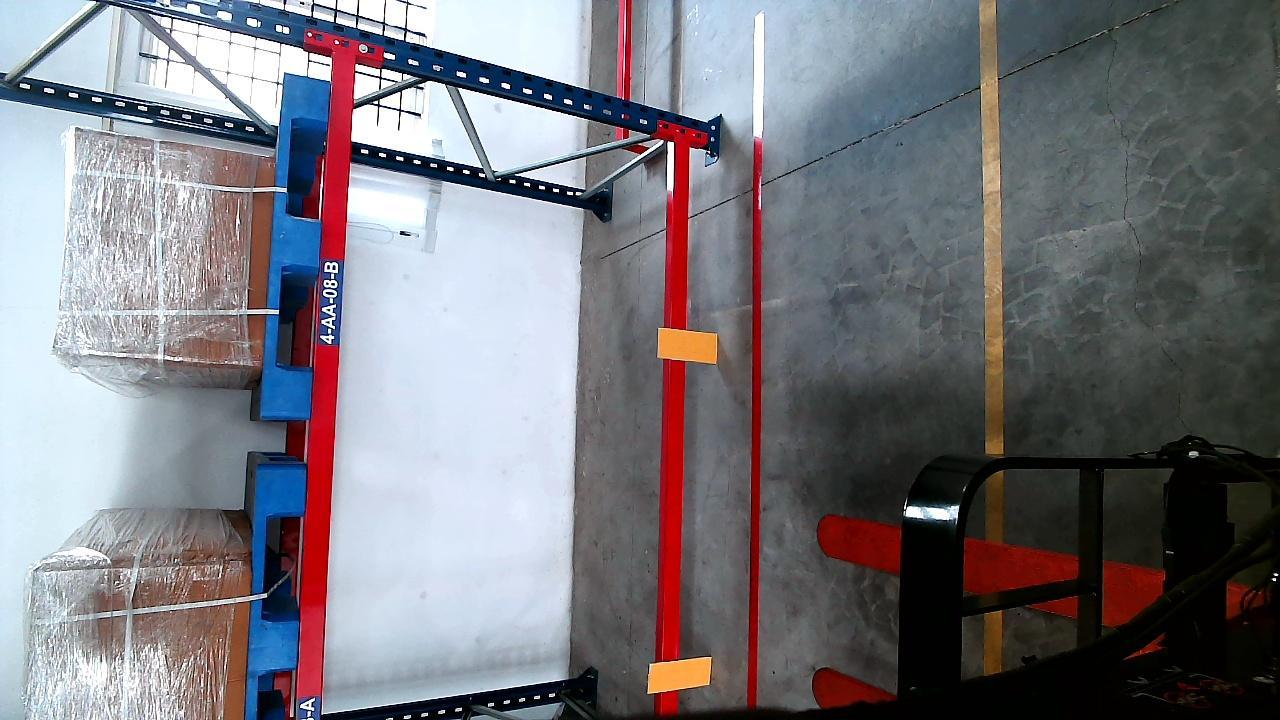yellow_line: (980, 5, 1010, 475)
